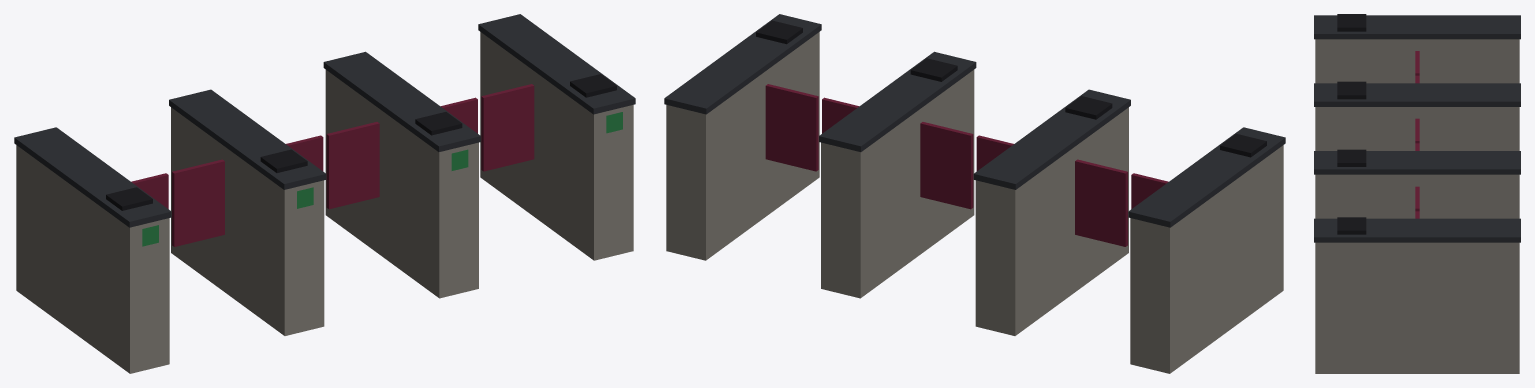
The model's file is prop_ticket-gates.869bb1ccc33d.glb.
The picture shows the model from 3 angles, left to right: view 1: azimuth 30°, elevation 25°; view 2: azimuth 150°, elevation 25°; view 3: azimuth 270°, elevation 25°; orthographic projection. The views are drawn at different scales.
Parts seen in each view (by area): view 1: body; view 2: body; view 3: body.
Boxes of the visible parts, box(x1,y1,x2,y2) form: body: box(14, 14, 635, 373); body: box(664, 14, 1285, 373); body: box(1314, 14, 1520, 373).
Size of the model in its own units: 3.6 by 1.07 by 1.42.
